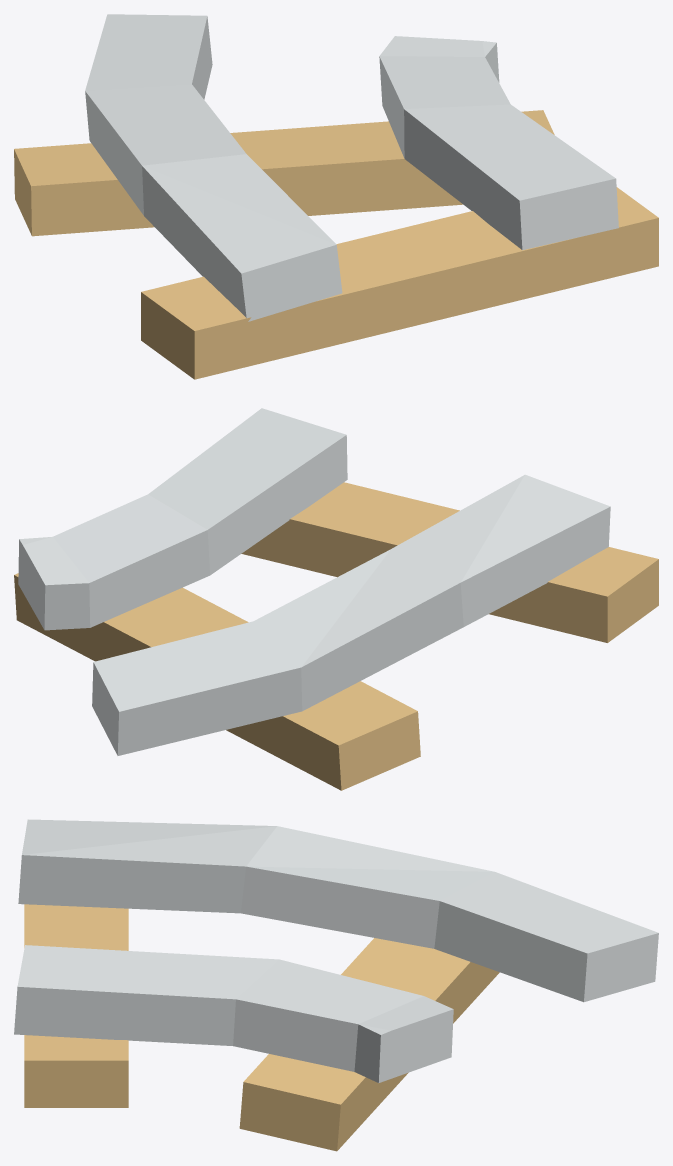
The model's file is trackRight.fbx.
3 renders of one model, top to bottom at view 1: azimuth 30°, elevation 25°; view 2: azimuth 150°, elevation 25°; view 3: azimuth 270°, elevation 25°, orthographic. The views are drawn at different scales.
Visible parts, largest first — view 1: trackCurved.001; view 2: trackCurved.001; view 3: trackCurved.001.
Part boxes in pixels (x1,y1,x2,y2): trackCurved.001: [14, 14, 658, 379]; trackCurved.001: [14, 408, 658, 790]; trackCurved.001: [14, 819, 658, 1151].
Size of the model in its own units: 11.01 by 2.61 by 12.33.
